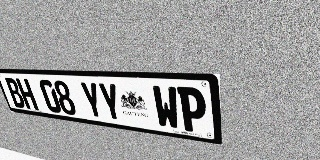0: (38, 79, 62, 113)
8: (52, 80, 77, 116)
B: (4, 78, 27, 109)
H: (15, 78, 39, 110)
P: (177, 87, 207, 134)
W: (151, 85, 181, 130)
Y: (97, 82, 124, 122), (79, 81, 105, 119)
